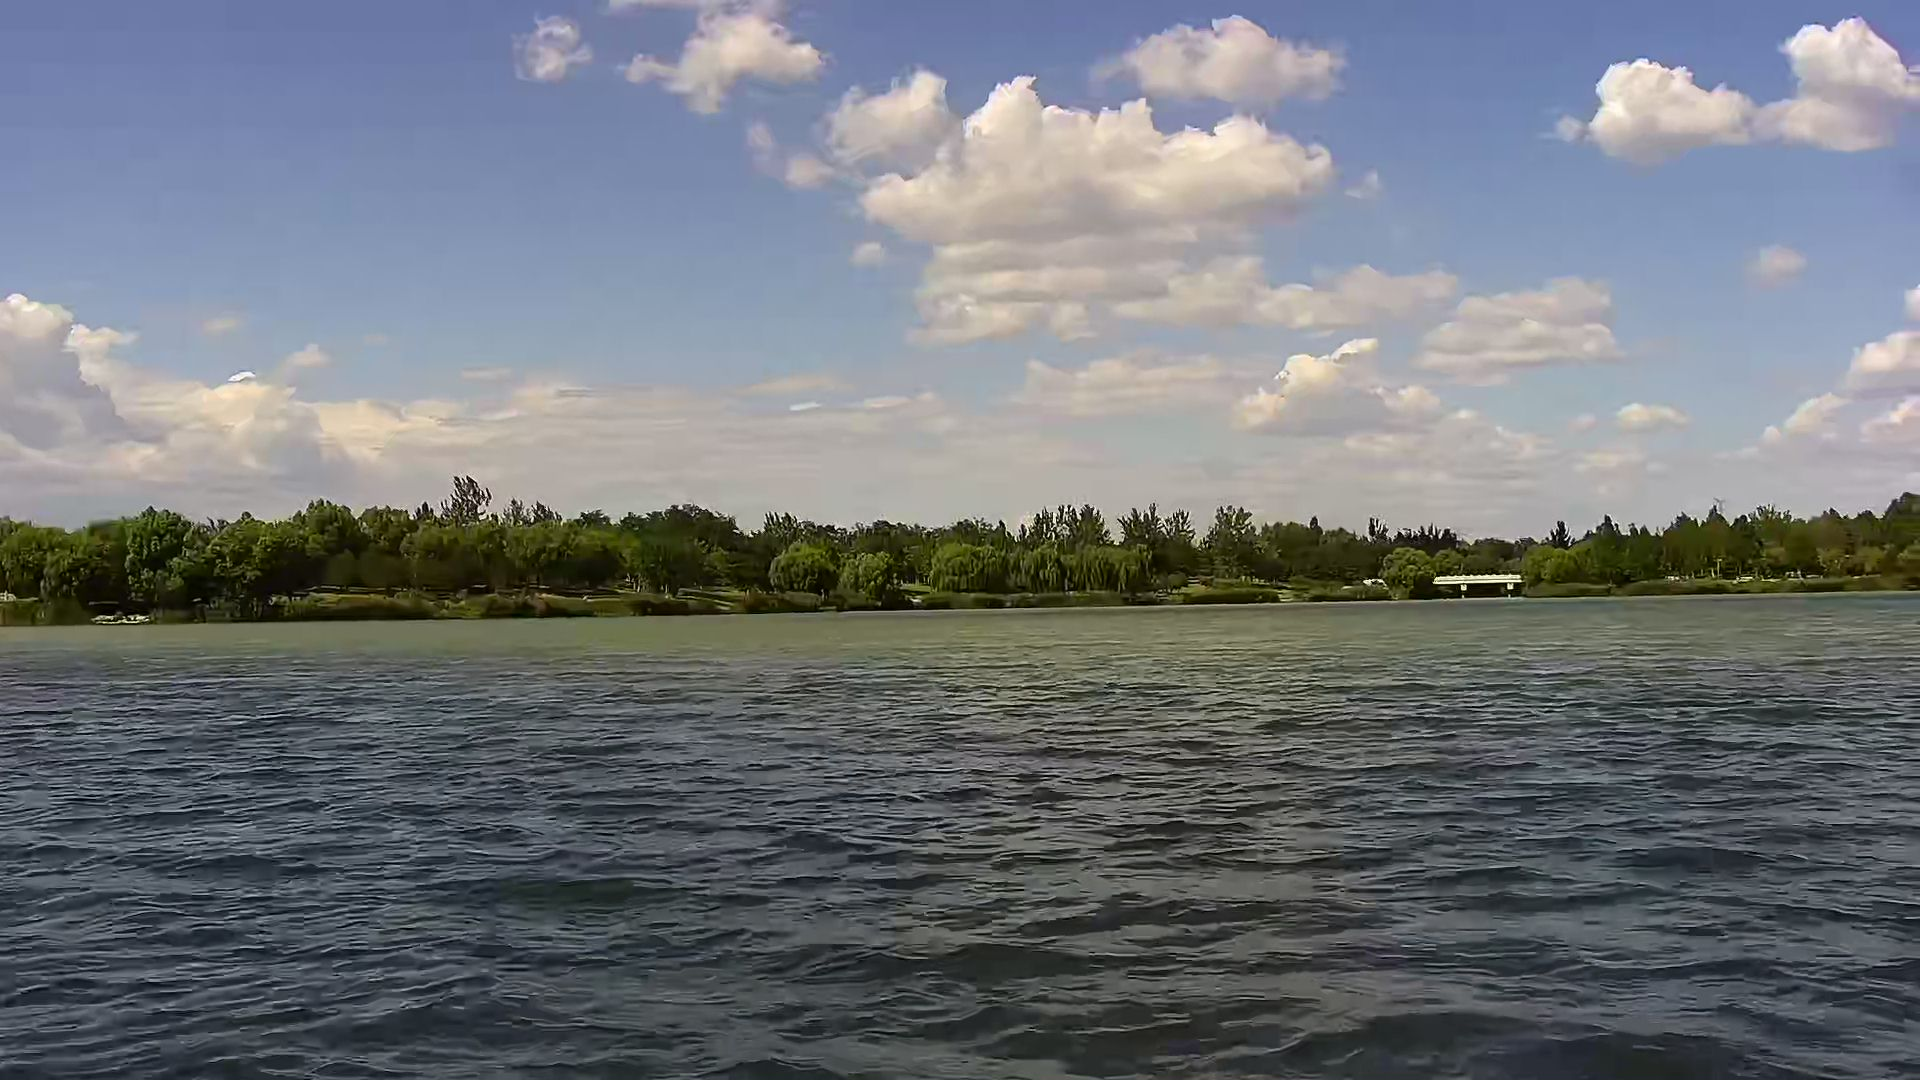bridge: (1414, 570, 1522, 607)
